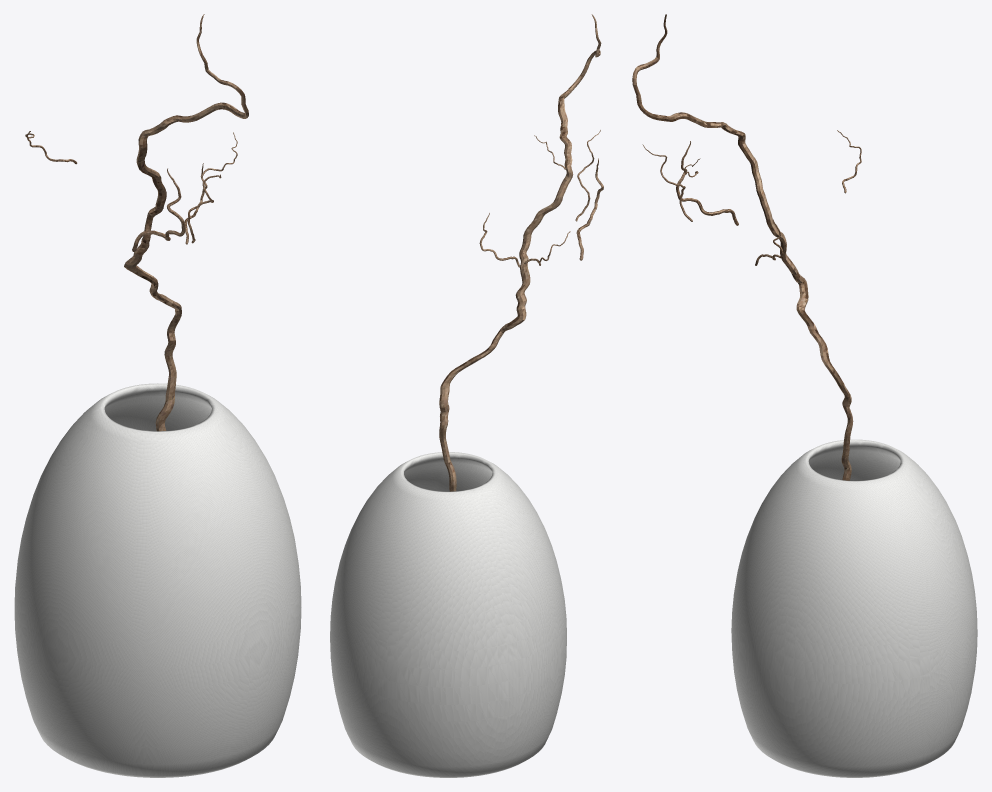
File: table plant.obj
The picture shows the model from 3 angles, left to right: view 1: azimuth 30°, elevation 25°; view 2: azimuth 150°, elevation 25°; view 3: azimuth 270°, elevation 25°; orthographic projection. The views are drawn at different scales.
Visible parts, largest first — view 1: Mesh1 G_3DGeom_12 Sphere001 Group2 Group1 Model, Mesh7 G_3DGeom_13 AI30_005_gadget_004_02 Group2 Group1 Model, Mesh6 G_3DGeom_13 AI30_005_gadget_004_02 Group2 Group1 Model; view 2: Mesh1 G_3DGeom_12 Sphere001 Group2 Group1 Model, Mesh7 G_3DGeom_13 AI30_005_gadget_004_02 Group2 Group1 Model; view 3: Mesh1 G_3DGeom_12 Sphere001 Group2 Group1 Model, Mesh7 G_3DGeom_13 AI30_005_gadget_004_02 Group2 Group1 Model.
Part boxes in pixels (x1,y1,x2,y2): Mesh1 G_3DGeom_12 Sphere001 Group2 Group1 Model: (14,383,301,777); Mesh7 G_3DGeom_13 AI30_005_gadget_004_02 Group2 Group1 Model: (124,14,248,431); Mesh6 G_3DGeom_13 AI30_005_gadget_004_02 Group2 Group1 Model: (132,168,185,251); Mesh1 G_3DGeom_12 Sphere001 Group2 Group1 Model: (330,452,566,777); Mesh7 G_3DGeom_13 AI30_005_gadget_004_02 Group2 Group1 Model: (439,14,601,491); Mesh1 G_3DGeom_12 Sphere001 Group2 Group1 Model: (731,439,977,777); Mesh7 G_3DGeom_13 AI30_005_gadget_004_02 Group2 Group1 Model: (632,14,853,480).
Size of the model in its own units: 48.2 by 143 by 64.06.
2 materials, 2 textured.
